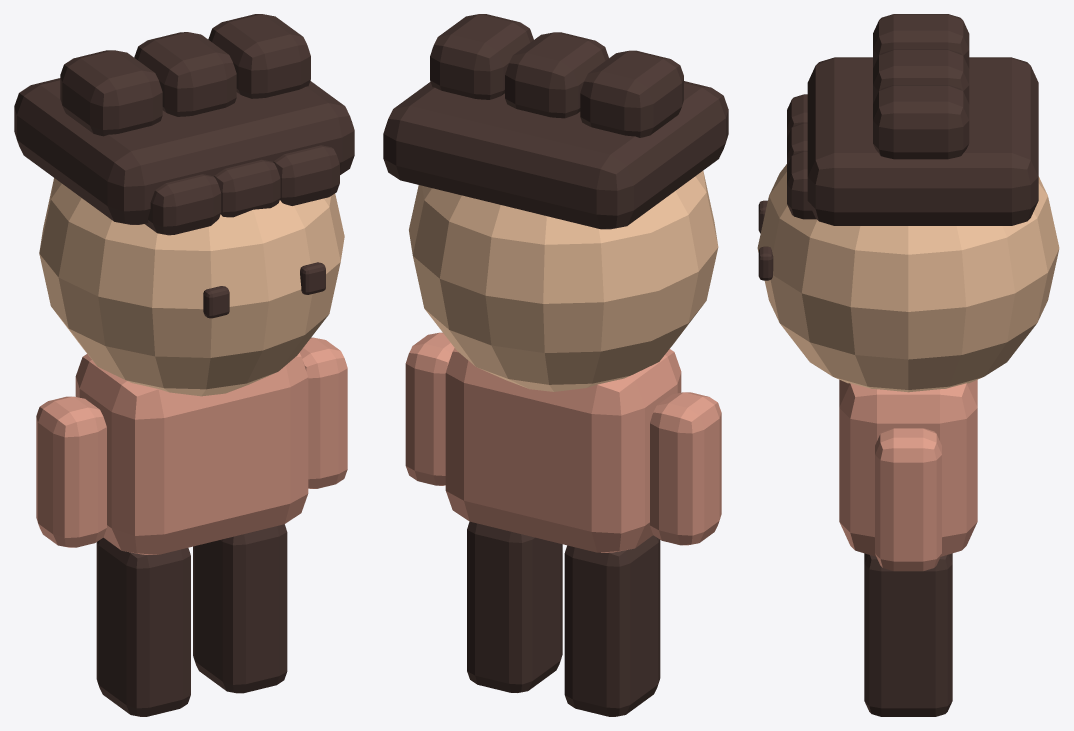
File: kar_warga_dimas.fbx
3 views of the same model, side by side, from view 1: azimuth 30°, elevation 25°; view 2: azimuth 150°, elevation 25°; view 3: azimuth 270°, elevation 25° (orthographic). The views are drawn at different scales.
Parts seen in each view (by area): view 1: kar_warga_dimas; view 2: kar_warga_dimas; view 3: kar_warga_dimas.
Part boxes in pixels (x1,y1,x2,y2): kar_warga_dimas: (14, 14, 354, 716); kar_warga_dimas: (383, 14, 728, 716); kar_warga_dimas: (757, 14, 1059, 716).
Bounding box in the file's own units: 79 × 165 × 72.
1 material, 1 textured.
